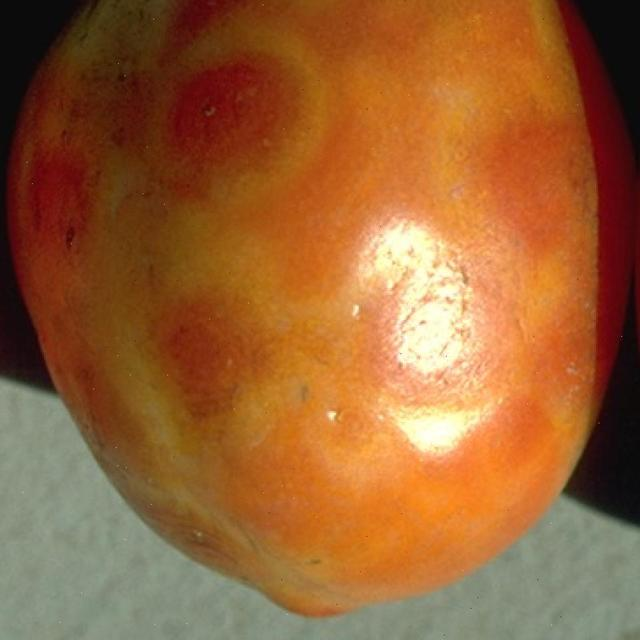Spotted wilt Virus Fruit: (6, 0, 420, 416)
